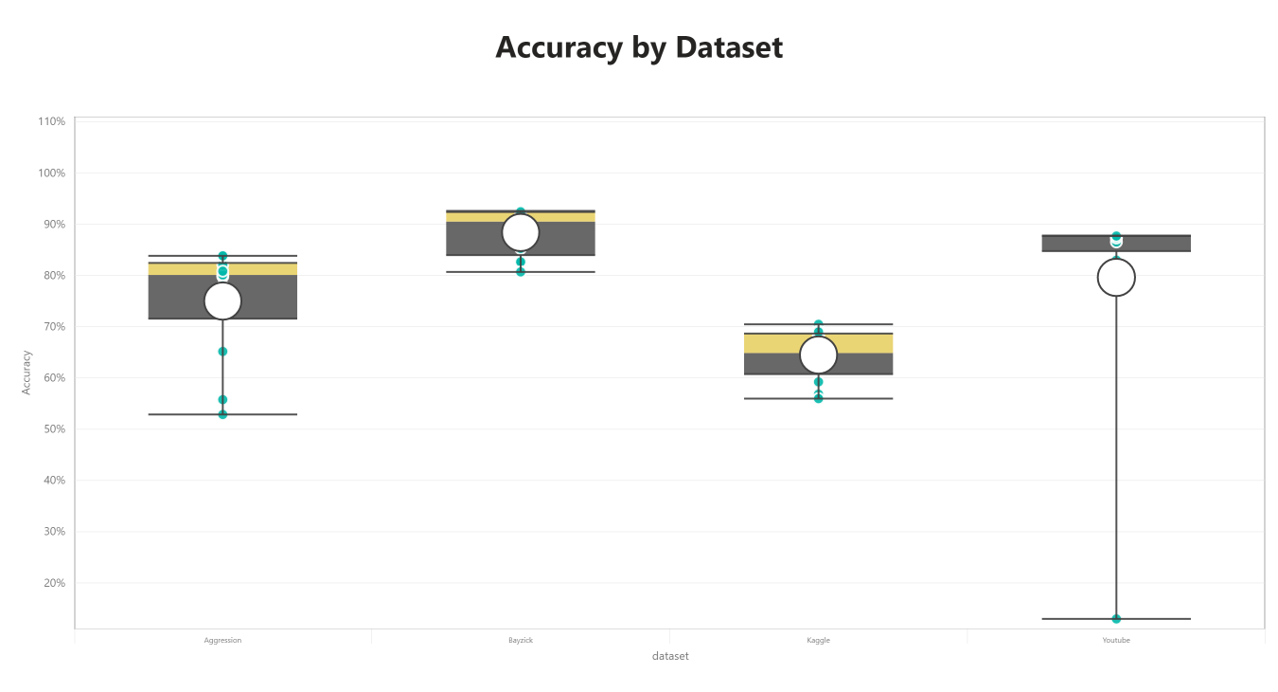

What the dashboard file says about the page in this screenshot:
{"tool":"powerbi","page":{"name":"Dataset Accuracy","canvas":[1350,720],"ordinal":3},"visuals":[{"type":"textbox","box":[468.8,20.5,412.4,62.6],"z":0},{"type":"BoxandWhiskerByMAQ1823AD39DT234AB532063E128AX","fields":{"categoryGroup":["dataset results.dataset"],"measure":["Avg(dataset results.accuracy)"],"category":["dataset results.model"]},"box":[8.2,109.8,1335.6,600.1],"z":1000}]}

Visuals, with their boxes in screenshot pixels (x1, y1, x2, y2), scaled from the page's 1350x720 canvas onto the 1278x692 screenshot:
textbox: bbox(444, 20, 834, 80)
BoxandWhiskerByMAQ1823AD39DT234AB532063E128AX - dataset results.dataset x Avg(dataset results.accuracy): bbox(8, 106, 1272, 682)
